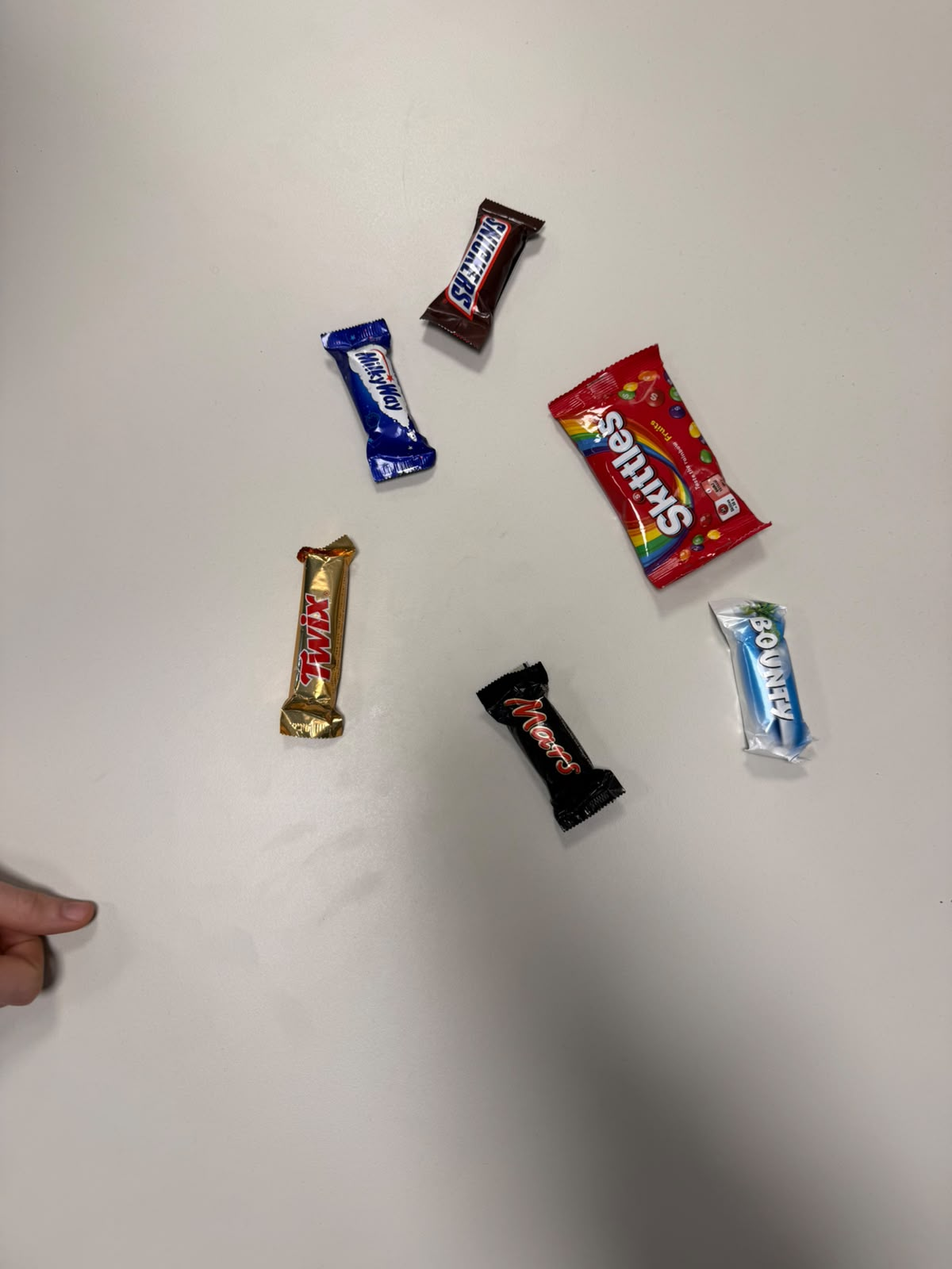Bounty: (706, 579, 776, 794)
Mars: (470, 669, 538, 882)
MilkyWay: (296, 333, 389, 533)
Skittles: (521, 389, 699, 656)
Snickers: (494, 163, 569, 353)
Twix: (276, 527, 364, 740)
